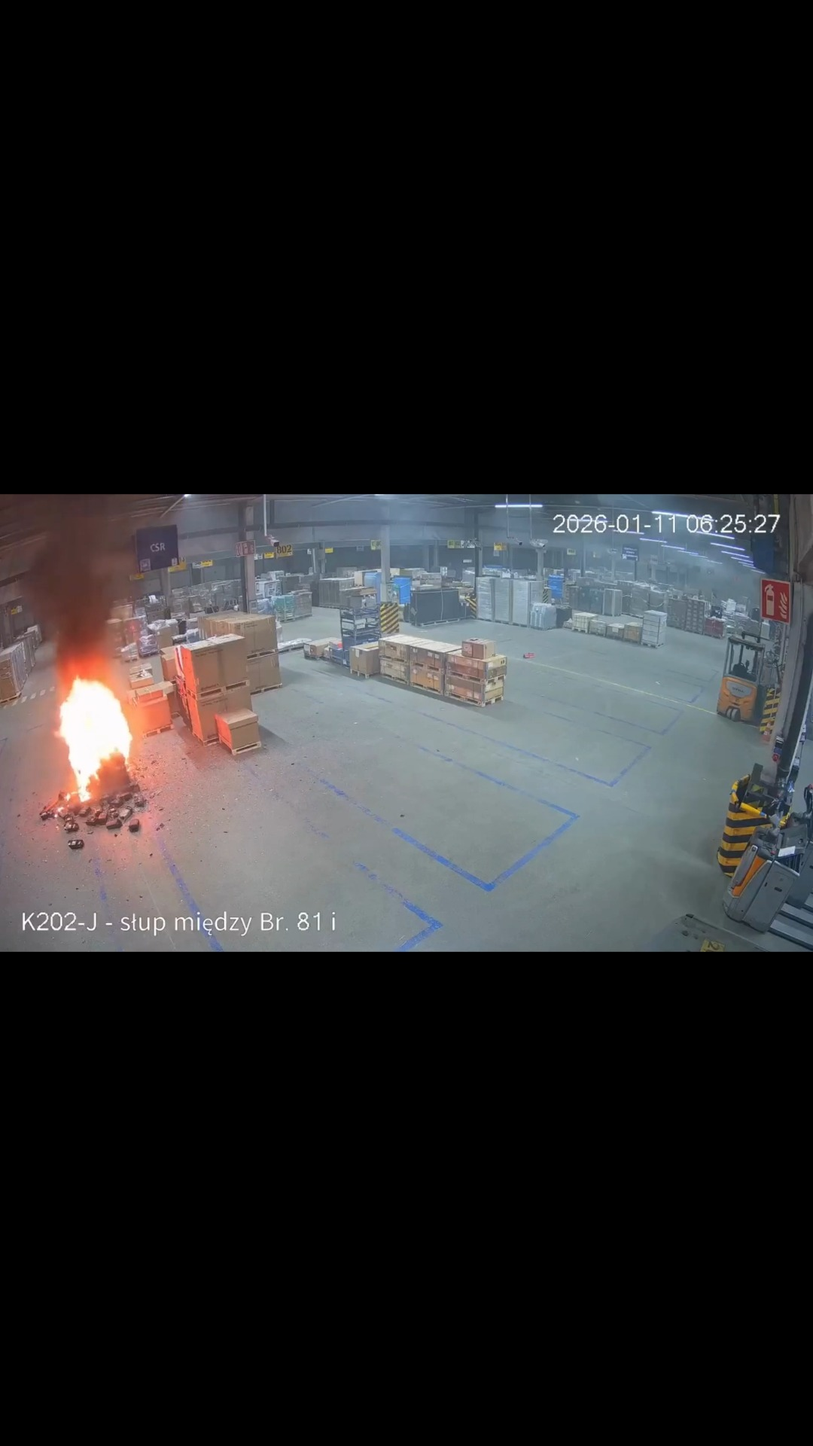fire: (54, 646, 136, 805)
smoke: (0, 495, 132, 679)
